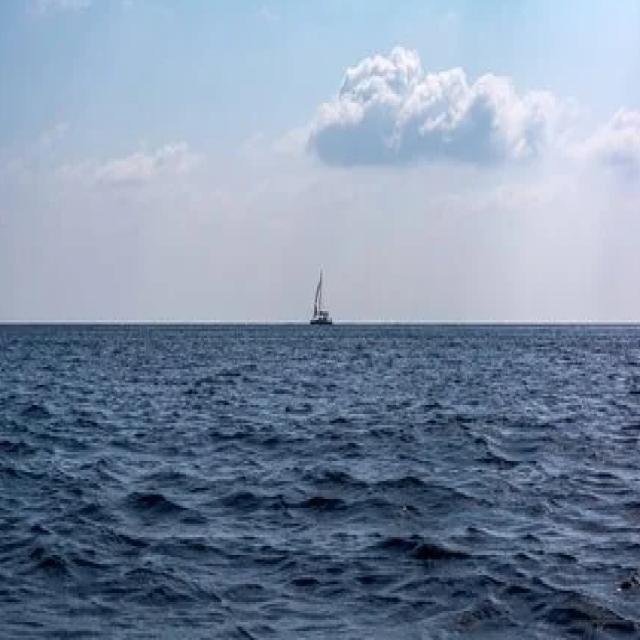fishing boat: (308, 262, 338, 326)
